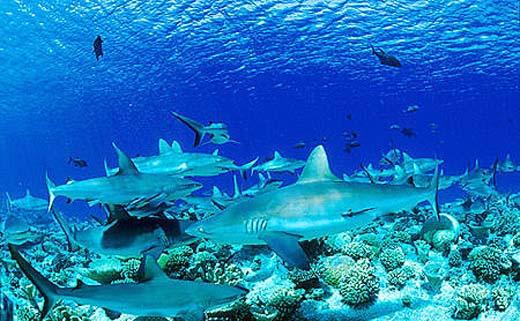Carcharhinus_amblyrhynchos: (5, 120, 442, 319)
